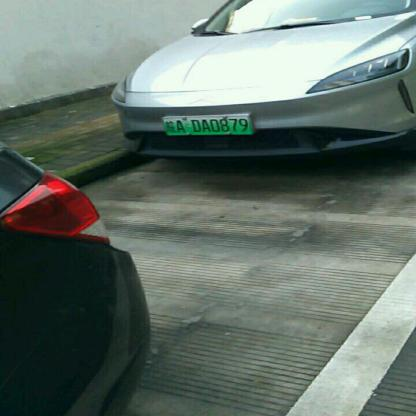lp: (159, 115, 252, 137)
